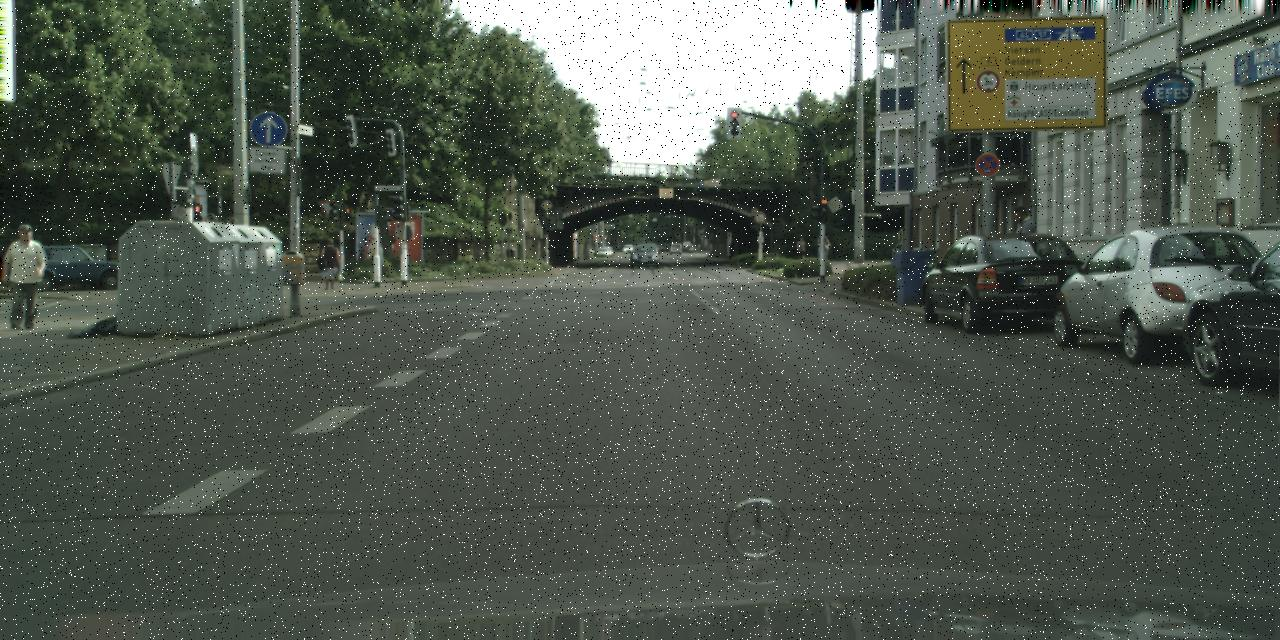ped: (3, 224, 45, 328), (1004, 206, 1040, 296), (319, 238, 339, 290), (817, 232, 827, 259), (796, 238, 806, 262)
